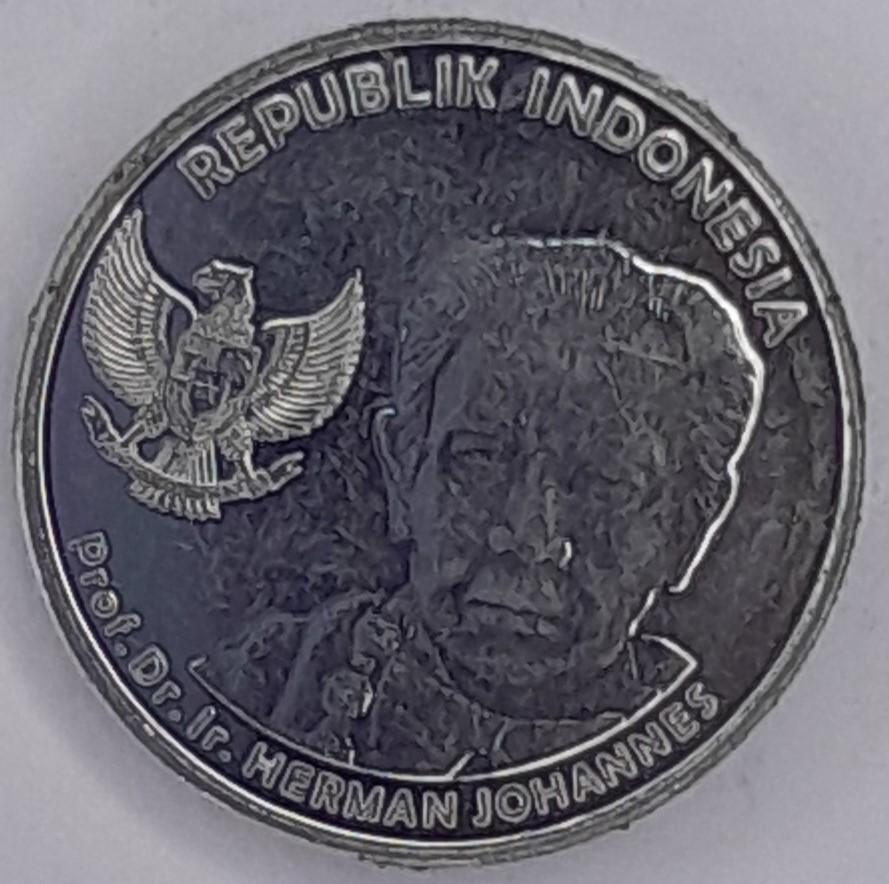coin_100_e2016: (7, 13, 870, 868)
